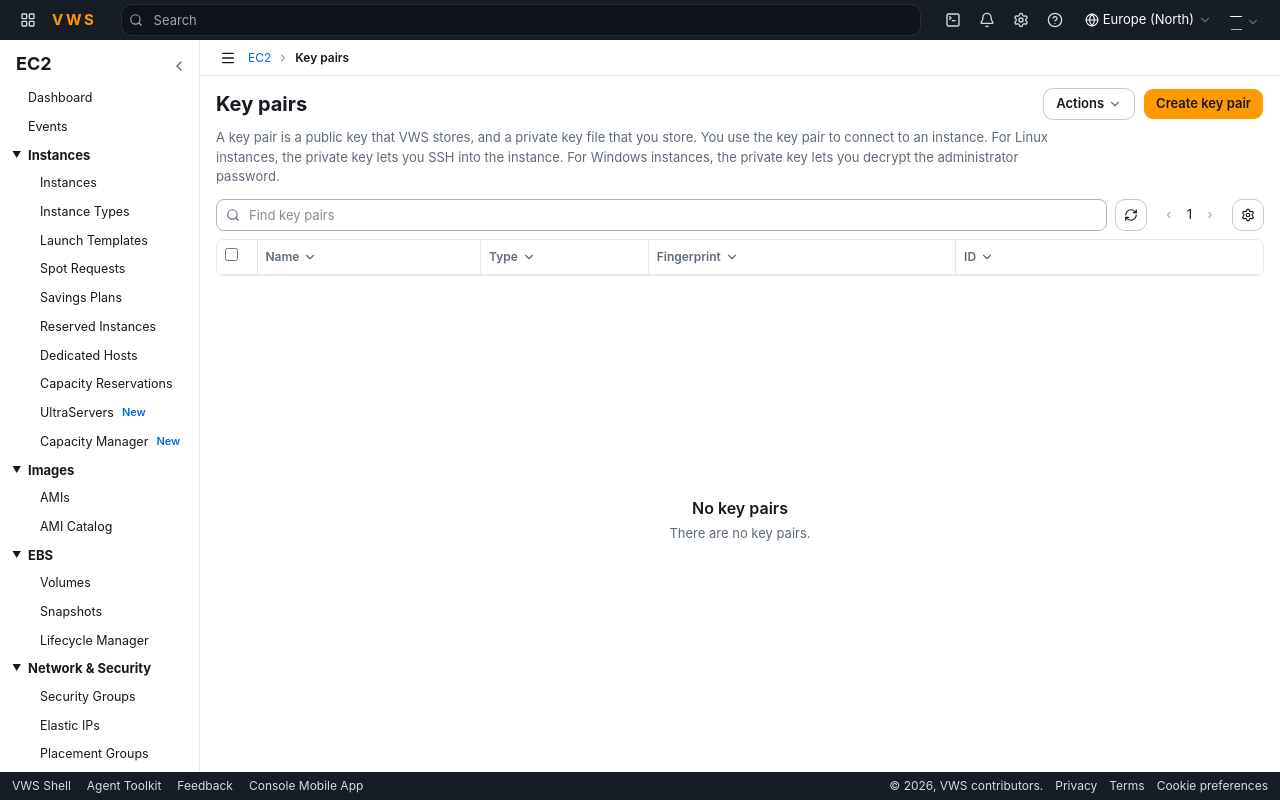
key pair create recovery › guides the user after a duplicate create returns 409
Click the button "Create key pair" at [1204, 104], box [1143, 88, 1264, 120]
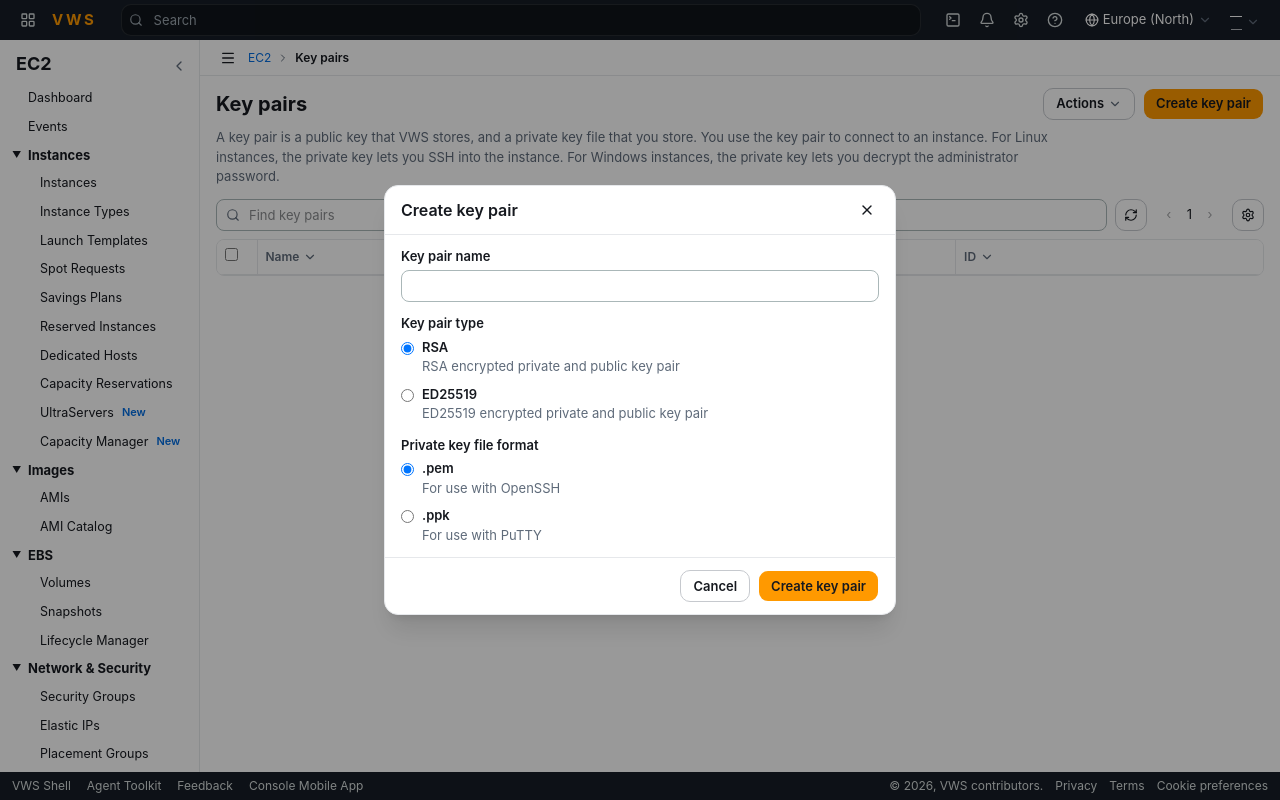
Type "web" into the field at [640, 286], box [401, 270, 879, 302]
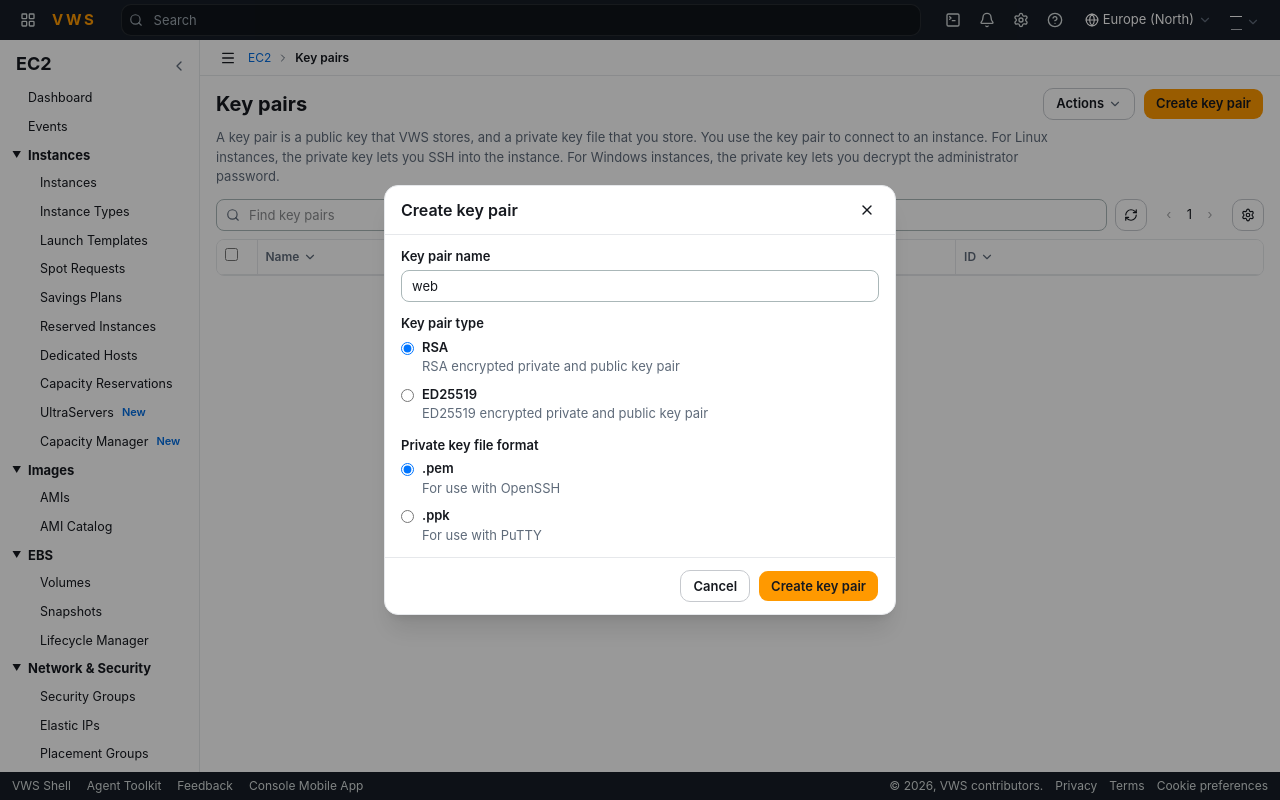
Click the button "Create key pair" at [819, 586], box [758, 570, 879, 602]
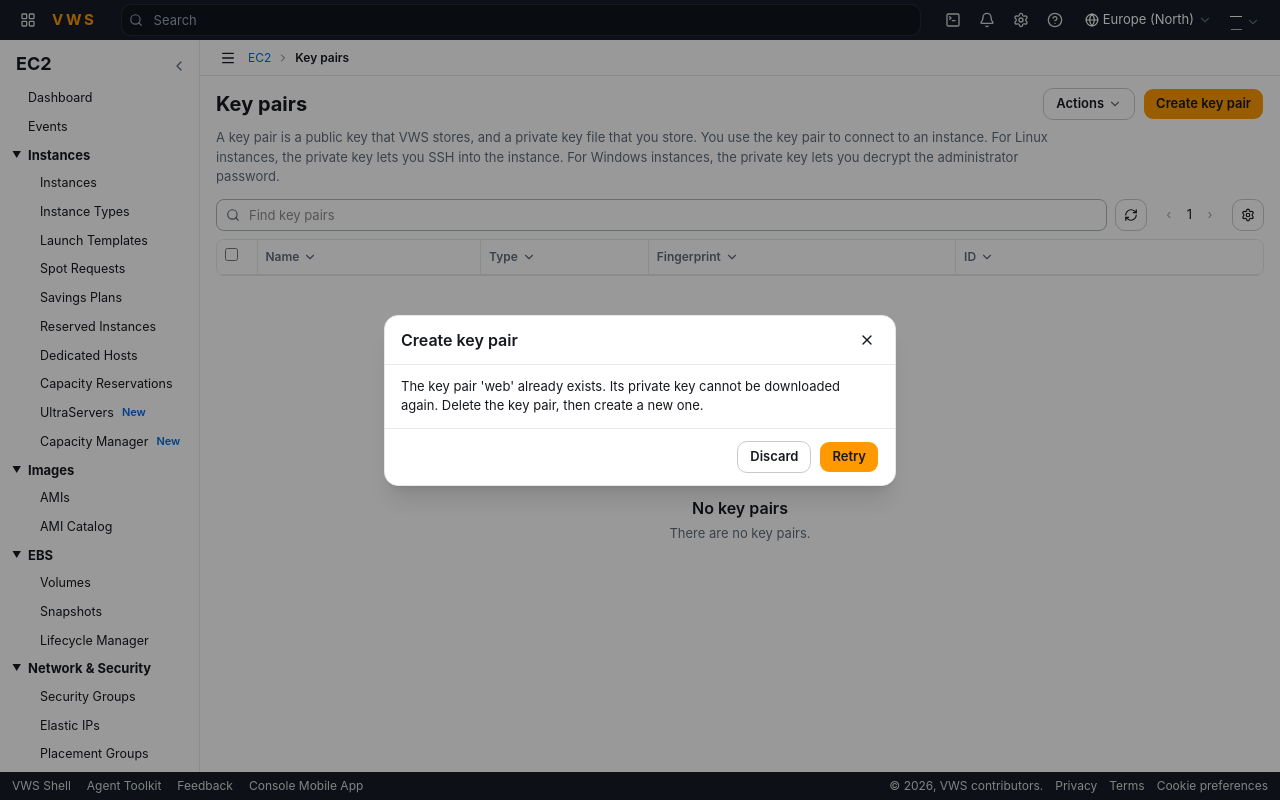
Result: the message shows "The key pair 'web' already exists. Its private key cannot be downloaded again. Delete the key pair, then create a new one." at [401, 378, 840, 413]
